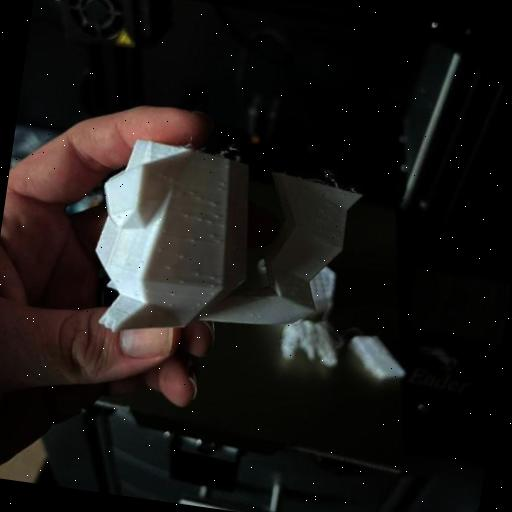blobs: (217, 178, 229, 190), (208, 199, 218, 211), (176, 252, 186, 262), (162, 263, 173, 272), (207, 272, 216, 282), (180, 211, 190, 220), (195, 215, 204, 224), (206, 232, 215, 241), (213, 213, 222, 222), (186, 190, 196, 198), (178, 278, 188, 286), (168, 290, 177, 298), (190, 238, 198, 246), (194, 301, 202, 309), (208, 283, 217, 290), (207, 218, 214, 226), (194, 270, 202, 276)
